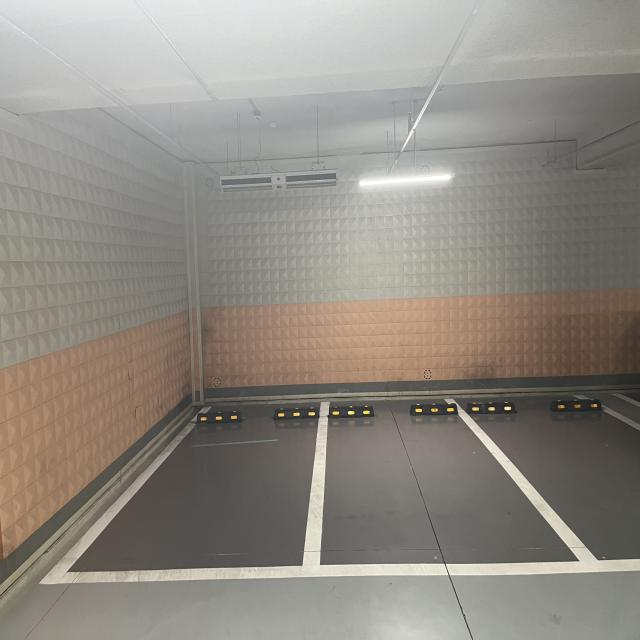empty: (290, 395, 610, 584), (29, 400, 332, 587)
